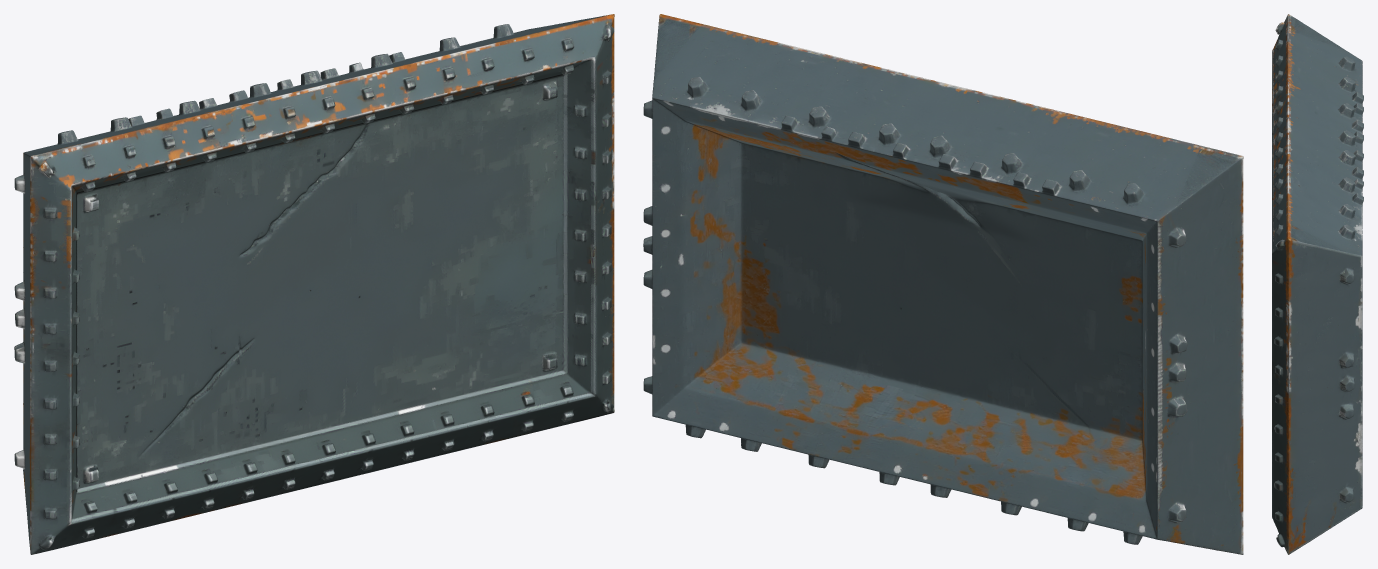
File: hatch_3.glb
3 renders of one model, left to right at view 1: azimuth 30°, elevation 25°; view 2: azimuth 150°, elevation 25°; view 3: azimuth 270°, elevation 25°, orthographic. The views are drawn at different scales.
Size of the model in its own units: 1.9 by 1.24 by 0.3272.
Materials: 1 (1 with a texture image).
